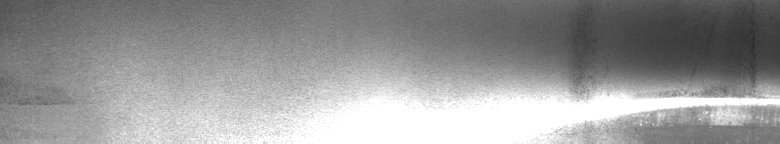ke: (556, 37, 776, 136)
